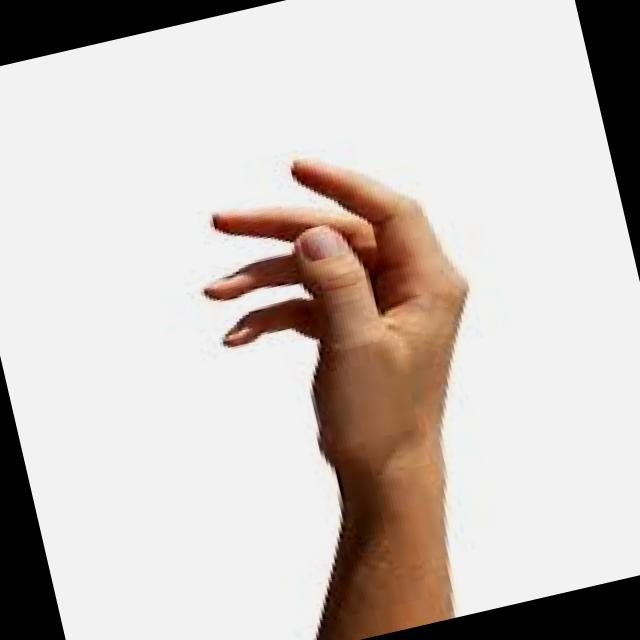Hand: (168, 120, 512, 500)
